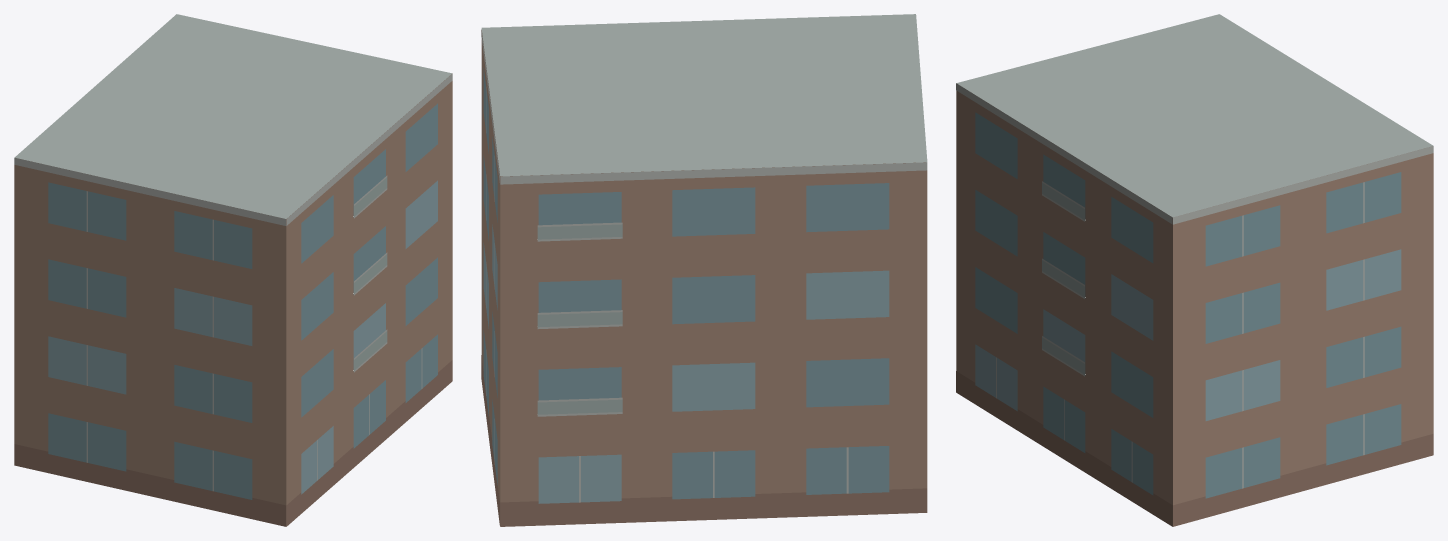
The model's file is survey-upis-32534965.glb.
3 views of the same model, side by side, from view 1: azimuth 30°, elevation 25°; view 2: azimuth 150°, elevation 25°; view 3: azimuth 270°, elevation 25° (orthographic). The views are drawn at different scales.
Parts seen in each view (by area): view 1: survey-upis-32534965.tmp; view 2: survey-upis-32534965.tmp; view 3: survey-upis-32534965.tmp.
Part boxes in pixels (bbox=[...]): survey-upis-32534965.tmp: bbox=[14, 14, 452, 526]; survey-upis-32534965.tmp: bbox=[481, 14, 927, 526]; survey-upis-32534965.tmp: bbox=[956, 14, 1433, 526].
Size of the model in its own units: 14.82 by 10.5 by 14.69.
